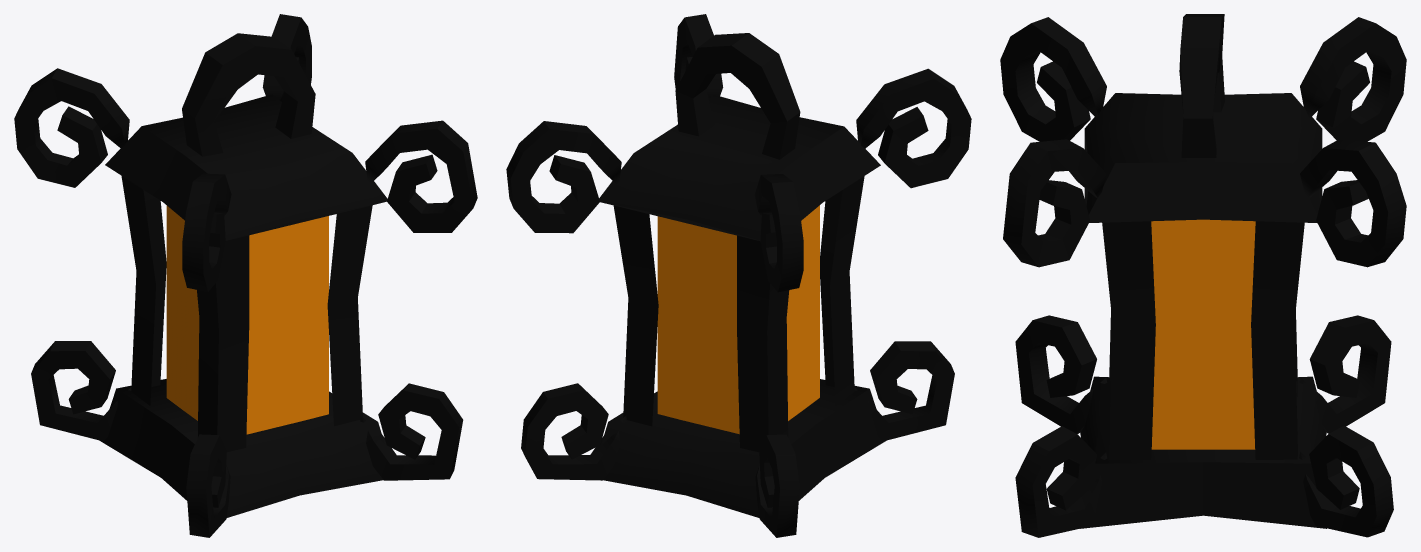
Rendered from lantern_02.FBX.
The picture shows the model from 3 angles, left to right: view 1: azimuth 30°, elevation 25°; view 2: azimuth 150°, elevation 25°; view 3: azimuth 270°, elevation 25°; orthographic projection. The views are drawn at different scales.
Parts seen in each view (by area): view 1: Lantern_01; view 2: Lantern_01; view 3: Lantern_01.
Part boxes in pixels (left/top/right/bottom): Lantern_01: left=14, top=14, right=477, bottom=537; Lantern_01: left=506, top=14, right=971, bottom=537; Lantern_01: left=1000, top=14, right=1406, bottom=537.
Size of the model in its own units: 116 by 124 by 156.
